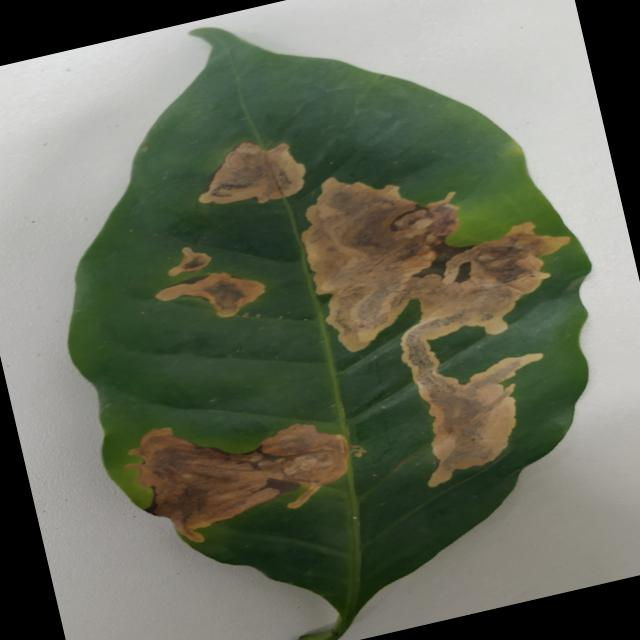PengorokDaunKopi: (401, 222, 568, 487), (301, 177, 457, 351), (126, 423, 348, 541), (417, 353, 542, 487), (199, 141, 304, 203), (156, 273, 264, 316), (417, 243, 473, 276), (168, 247, 211, 276), (354, 446, 365, 457), (212, 294, 214, 295)
